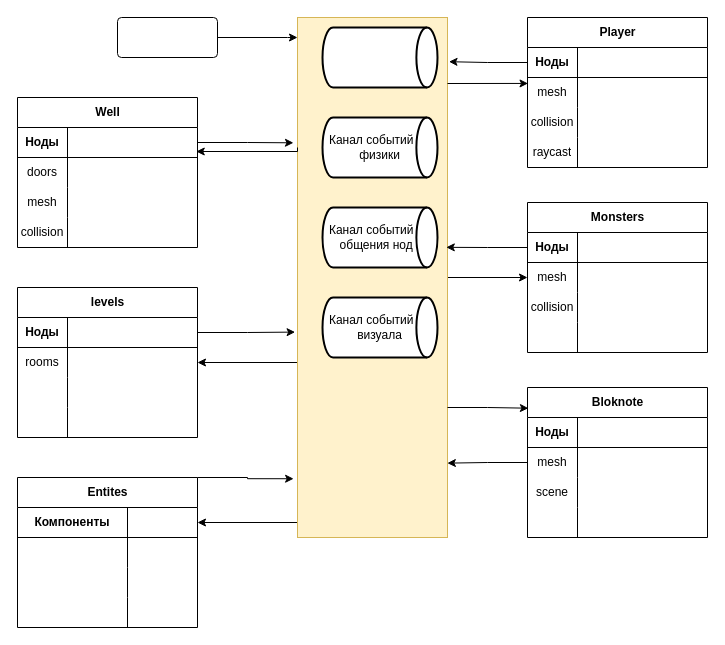
The diagram is 725 pixels wide and 645 high, and some of its shapes have lost their labels. The centre of each missing label's shape, as x and y in pixels:
Канал событий периферии: pixel 379 57
Событие: pixel 167 37
